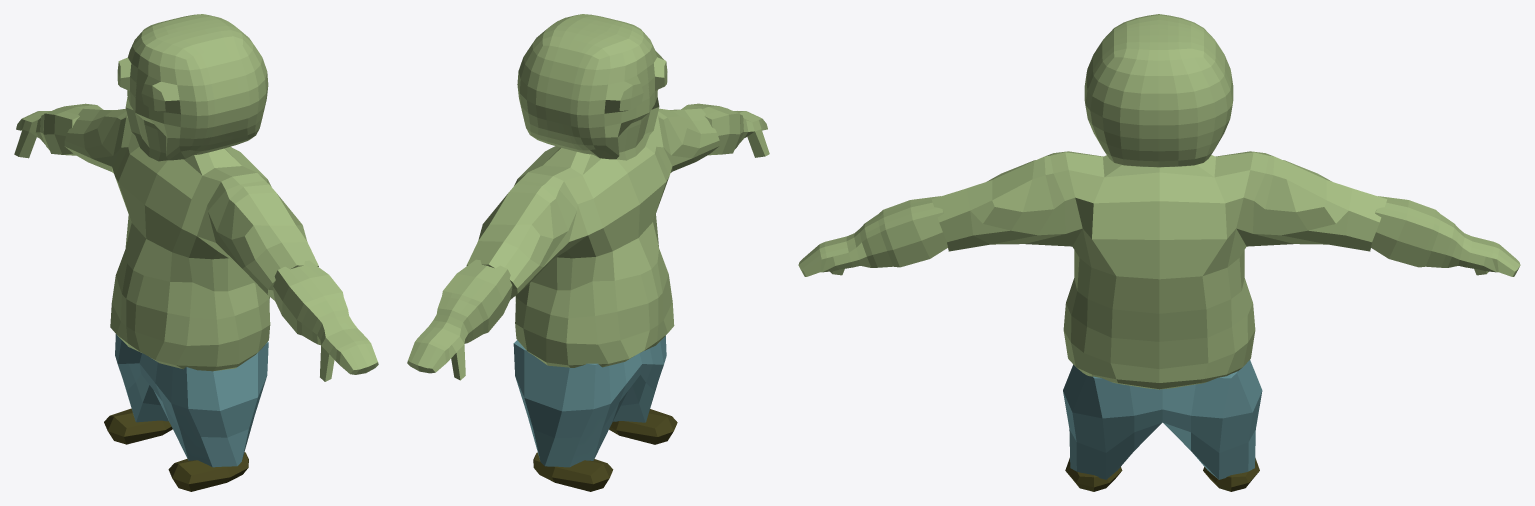
File: Zombie_simple2_full (2).fbx
3 views of the same model, side by side, from view 1: azimuth 30°, elevation 25°; view 2: azimuth 150°, elevation 25°; view 3: azimuth 270°, elevation 25° (orthographic). The views are drawn at different scales.
Visible parts, largest first — view 1: Cube.021; view 2: Cube.021; view 3: Cube.021.
Boxes of the visible parts, left/top/right/bottom form: Cube.021: left=14, top=14, right=378, bottom=491; Cube.021: left=407, top=14, right=769, bottom=491; Cube.021: left=798, top=14, right=1520, bottom=491.
Size of the model in its own units: 136 by 417 by 600.
